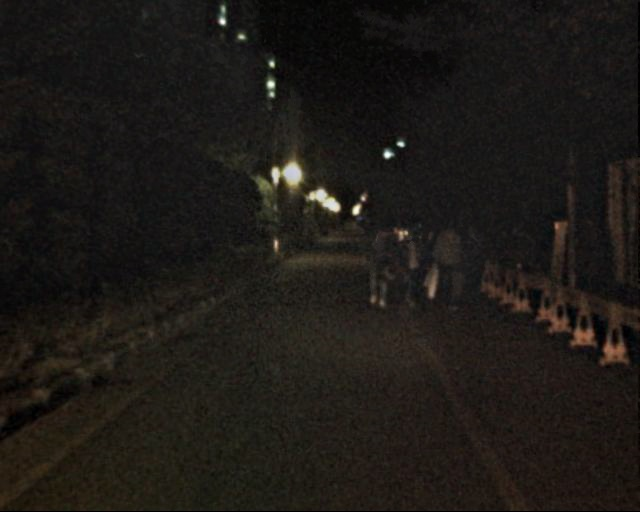person: (429, 220, 466, 311), (360, 228, 395, 313), (390, 225, 425, 310), (455, 224, 486, 299), (409, 229, 434, 291)
